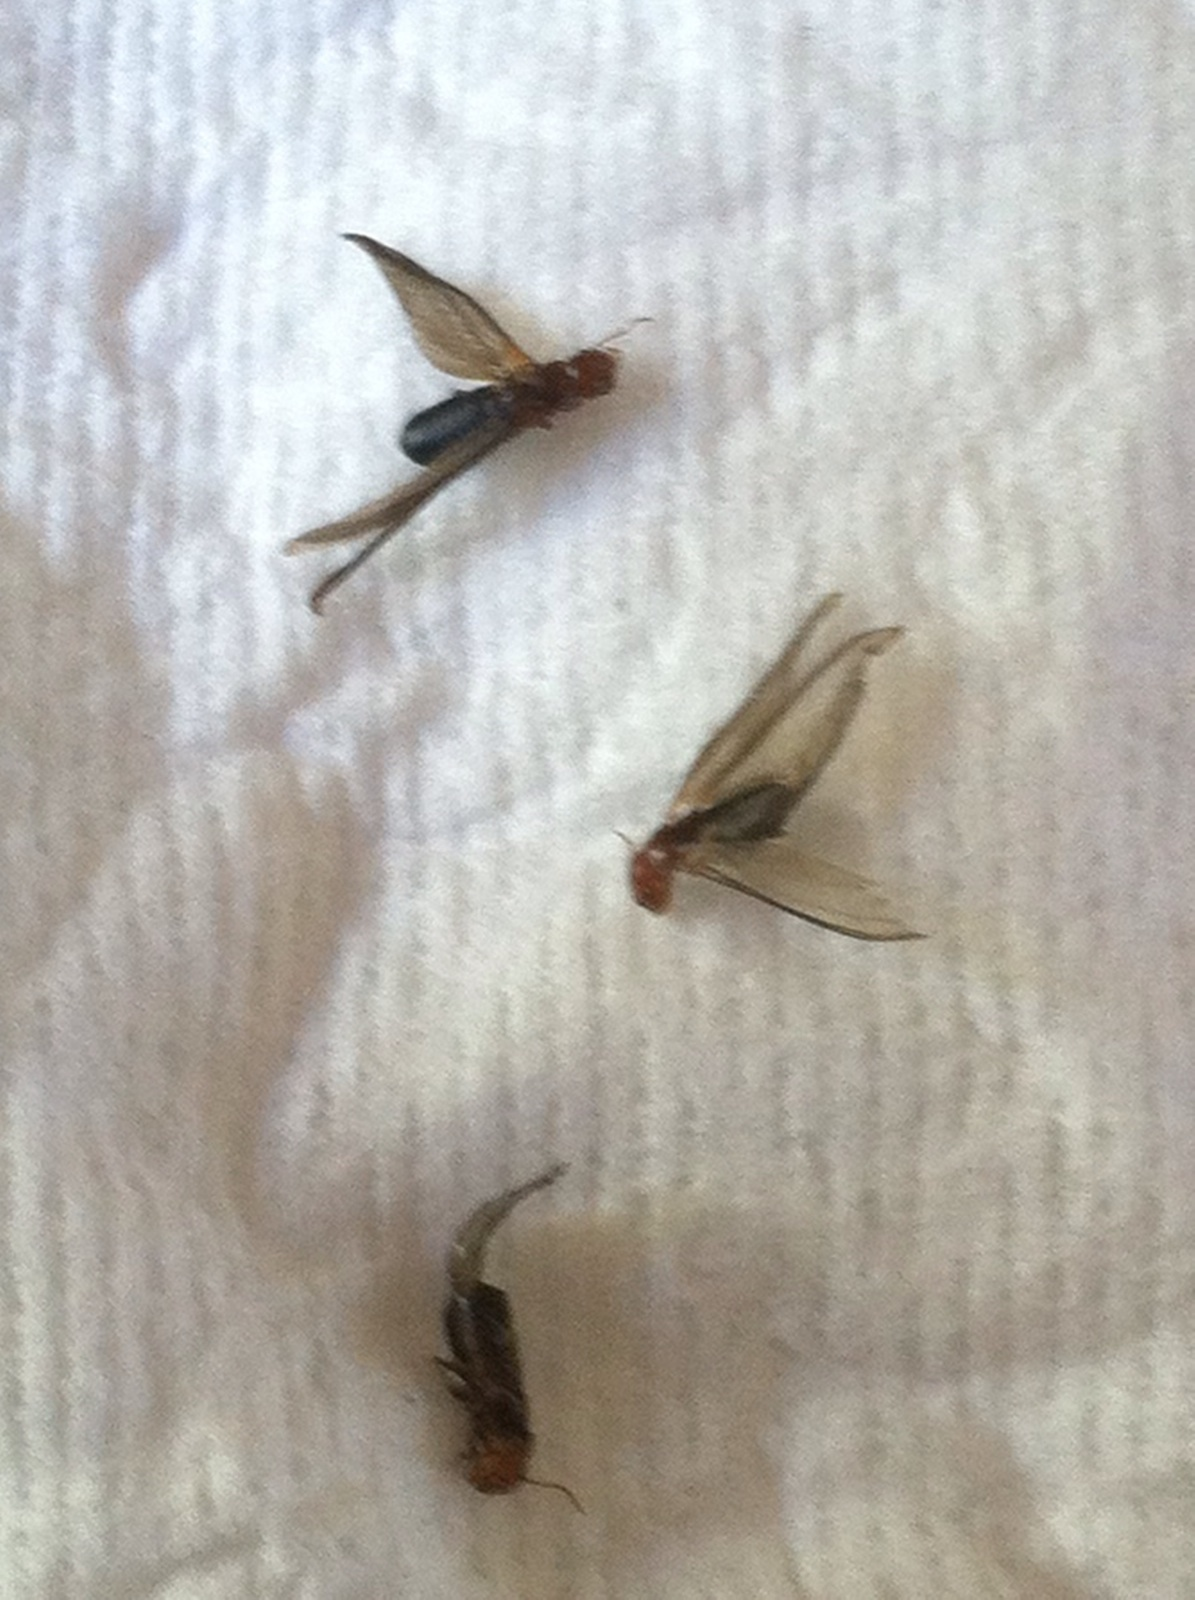flying termite: (236, 220, 656, 661), (334, 1116, 693, 1600), (564, 594, 967, 998)
